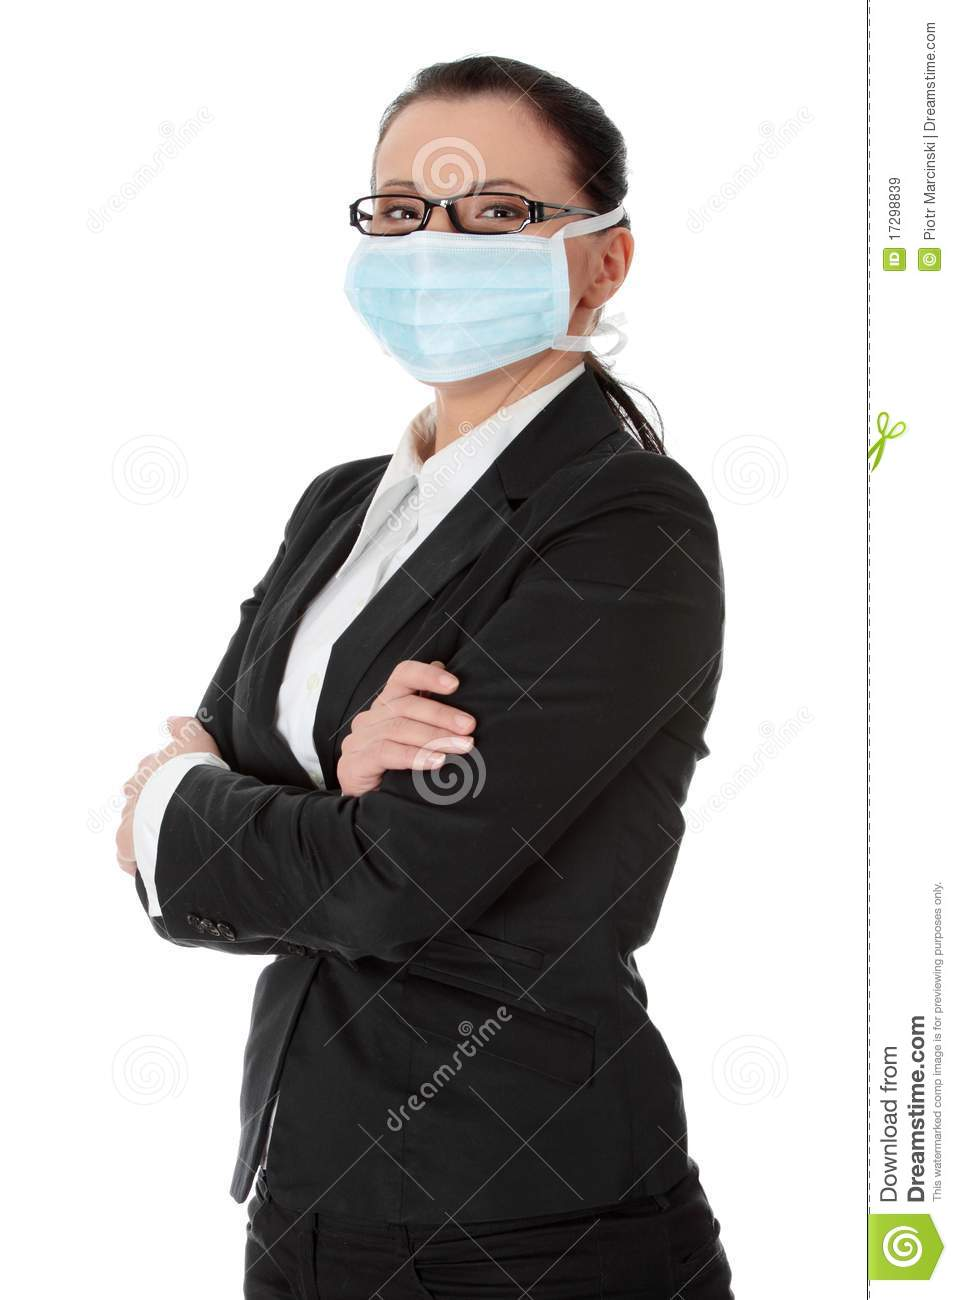mask: (341, 232, 575, 387)
